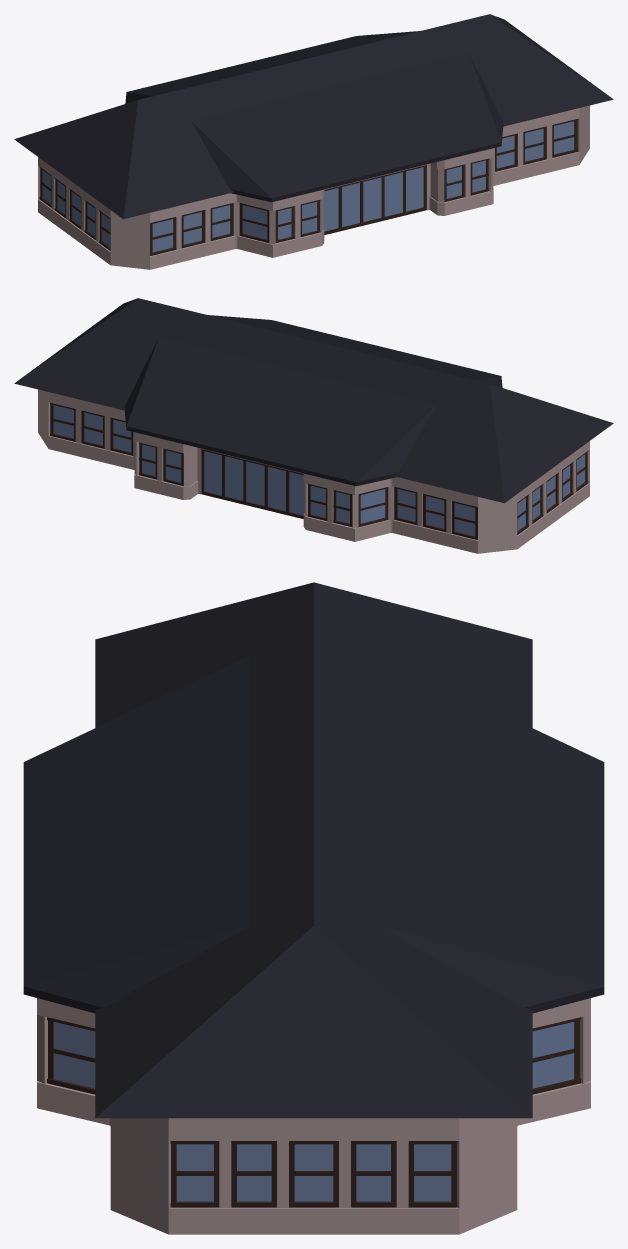
The model's file is Building_Misc_02.fbx.
3 renders of one model, top to bottom at view 1: azimuth 30°, elevation 25°; view 2: azimuth 150°, elevation 25°; view 3: azimuth 270°, elevation 25°, orthographic. The views are drawn at different scales.
Parts seen in each view (by area): view 1: Building_Misc_02; view 2: Building_Misc_02; view 3: Building_Misc_02.
Boxes of the visible parts, left/top/right/bottom form: Building_Misc_02: left=14, top=14, right=613, bottom=269; Building_Misc_02: left=14, top=298, right=613, bottom=553; Building_Misc_02: left=23, top=582, right=604, bottom=1234.
Bounding box in the file's own units: 31.74 × 7.62 × 16.27.
